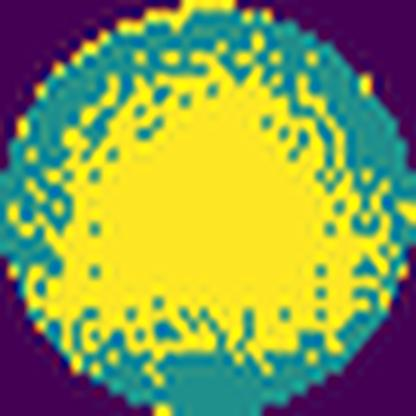Center: (40, 52, 366, 354)
